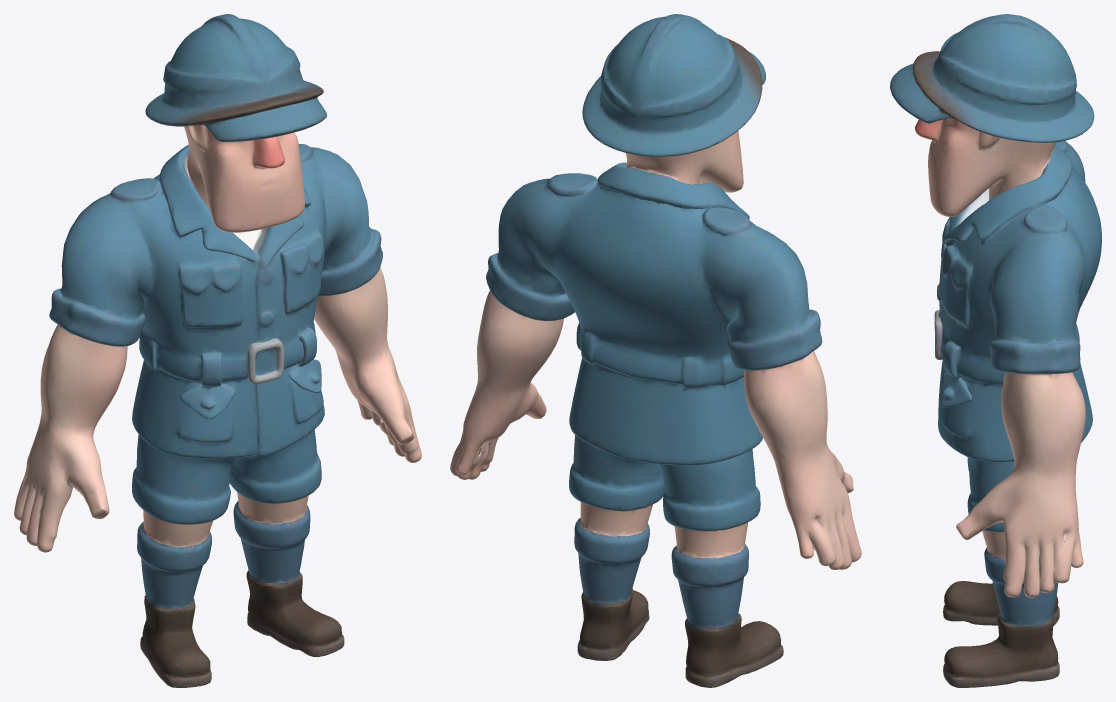
File: rifleman.glb
The picture shows the model from 3 angles, left to right: view 1: azimuth 30°, elevation 25°; view 2: azimuth 150°, elevation 25°; view 3: azimuth 270°, elevation 25°; orthographic projection.
Parts seen in each view (by area): view 1: world; view 2: world; view 3: world.
Boxes of the visible parts, x1,y1,x2,y2 form: world: (14,14,421,687); world: (450,14,861,687); world: (890,14,1101,687).
Bounding box in the file's own units: 0.5014 × 0.7874 × 0.2396.
Materials: 1 (1 with a texture image).
